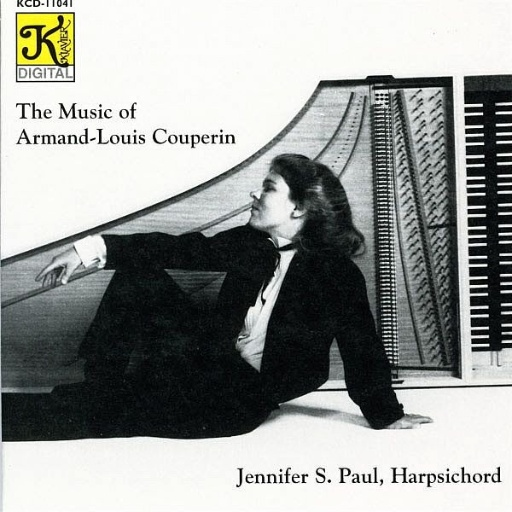hand: (34, 245, 81, 287), (386, 410, 435, 430)
